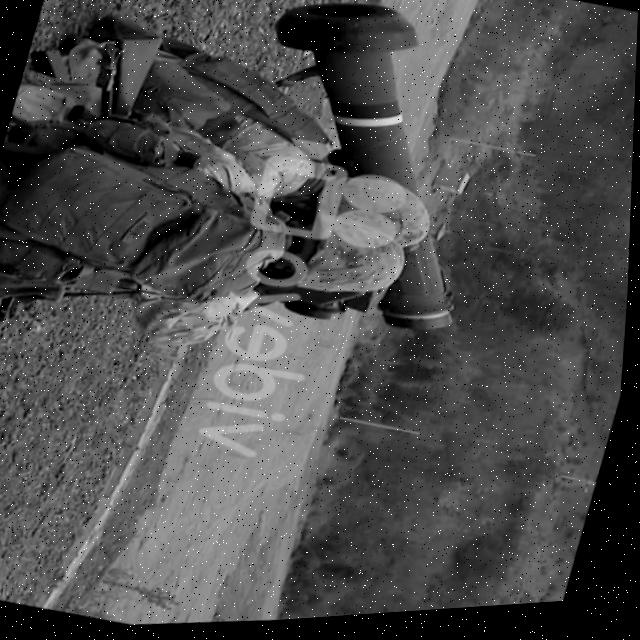rocket: (200, 0, 532, 347)
